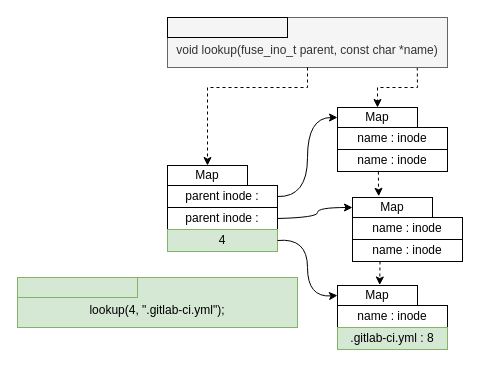
Some shapes in this 480 by 367 pixel diagram are drawn without their labels. The shapes that lost their labels are listed below. From the top down, each one's box as (x1, y1, x2, y2) in pixels, then its label:
(166, 16, 288, 38): lookup syscall
(16, 276, 138, 298): example lookup
